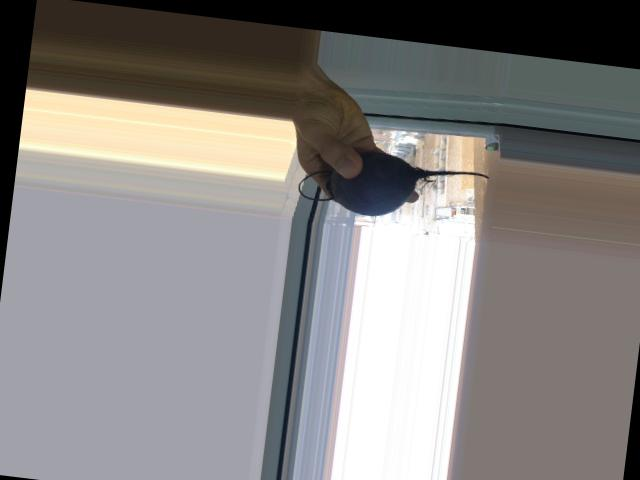beet: (297, 143, 491, 229)
